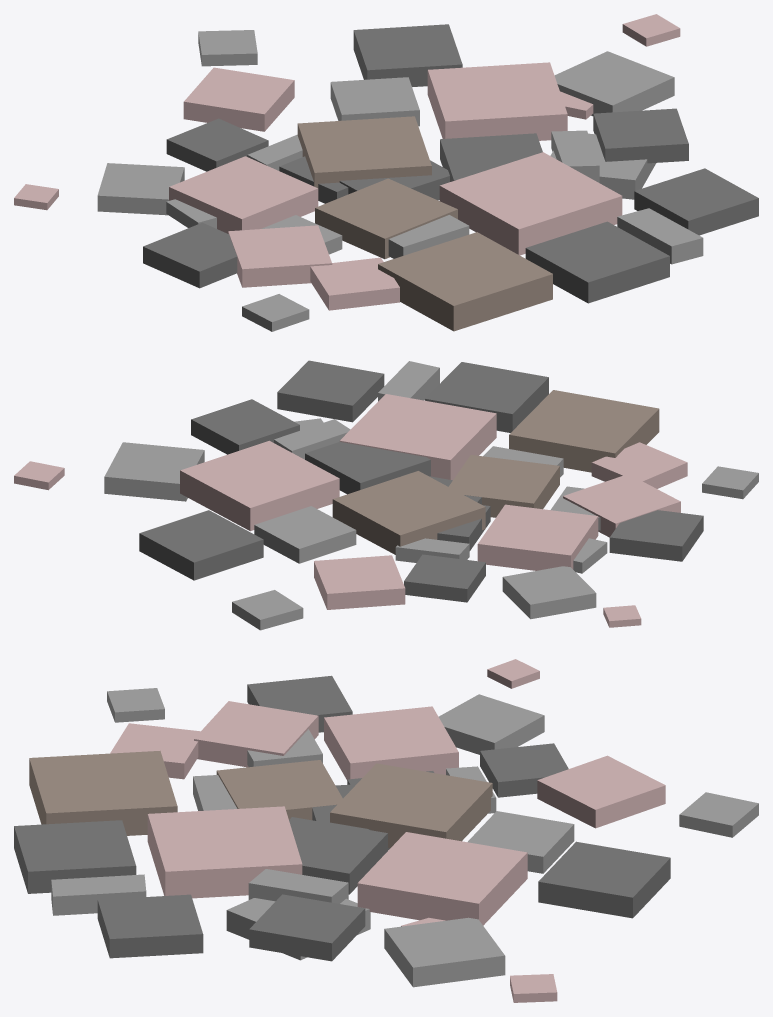
The model's file is cailloux_large.glb.
3 renders of one model, top to bottom at view 1: azimuth 30°, elevation 25°; view 2: azimuth 150°, elevation 25°; view 3: azimuth 270°, elevation 25°, orthographic. The views are drawn at different scales.
Parts seen in each view (by area): view 1: Cube.030; view 2: Cube.030; view 3: Cube.030.
Part boxes in pixels (x1=…): Cube.030: x1=14, y1=14, x2=758, y2=331; Cube.030: x1=14, y1=360, x2=758, y2=630; Cube.030: x1=14, y1=659, x2=758, y2=1002.
Size of the model in its own units: 5.92 by 0.357 by 5.42.
